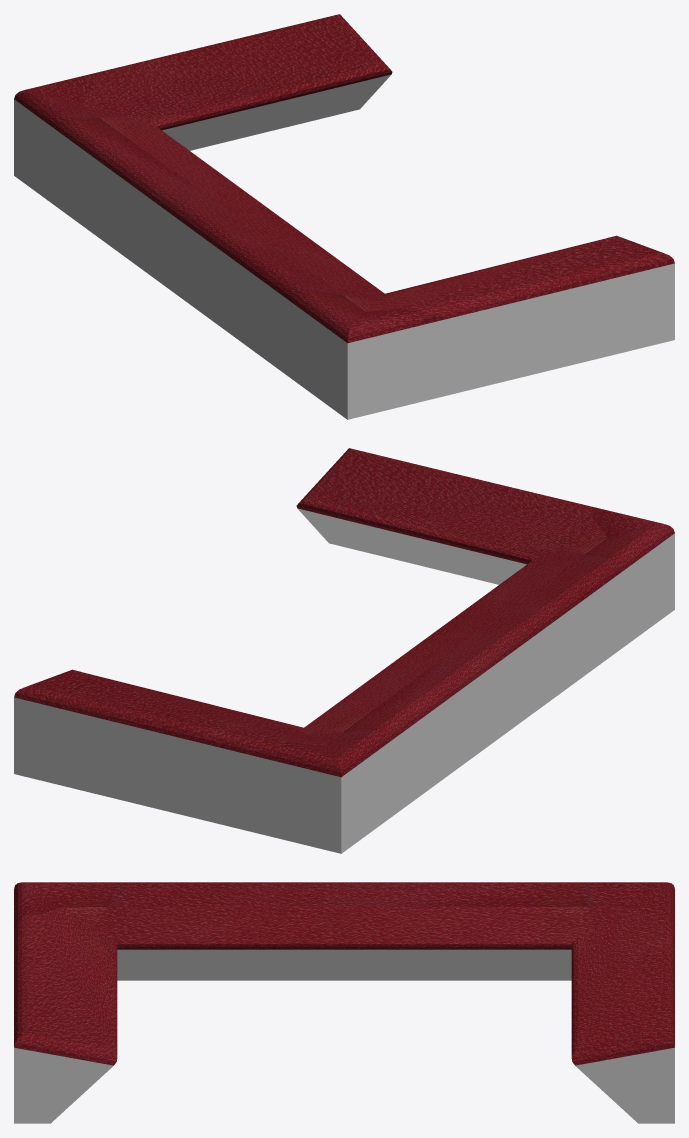
Rendered from booth-seats.fbx.
3 renders of one model, top to bottom at view 1: azimuth 30°, elevation 25°; view 2: azimuth 150°, elevation 25°; view 3: azimuth 270°, elevation 25°, orthographic.
Parts seen in each view (by area): view 1: Cube; view 2: Cube; view 3: Cube.
Part boxes in pixels (bbox=[...]): Cube: bbox=[14, 14, 674, 419]; Cube: bbox=[14, 448, 674, 853]; Cube: bbox=[14, 882, 674, 1123].
Size of the model in its own units: 510 by 131 by 900.
